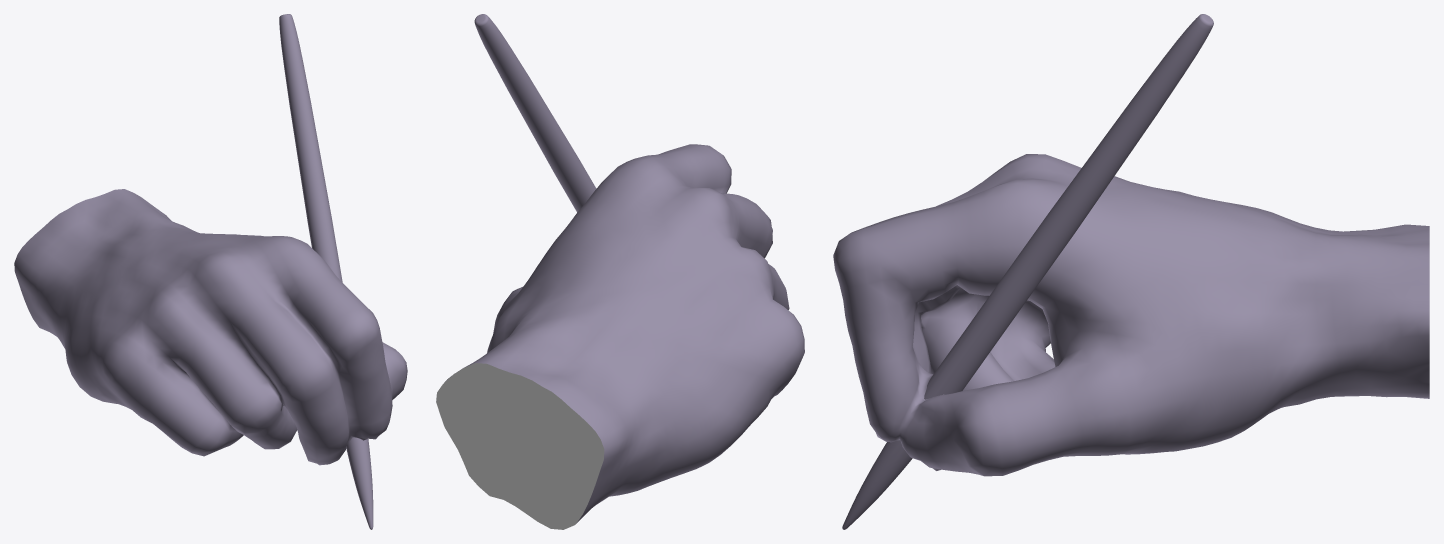
The model's file is 手_20260324183255_opt.glb.
3 views of the same model, side by side, from view 1: azimuth 30°, elevation 25°; view 2: azimuth 150°, elevation 25°; view 3: azimuth 270°, elevation 25° (orthographic). The views are drawn at different scales.
Parts seen in each view (by area): view 1: HandLowUv, Cylinder001; view 2: HandLowUv, HandLowUv001, Cylinder001; view 3: HandLowUv, Cylinder001.
Part boxes in pixels (x1=…): HandLowUv: x1=14, y1=189, x2=407, y2=465; Cylinder001: x1=279, y1=14, x2=373, y2=529; HandLowUv: x1=444, y1=144, x2=804, y2=523; HandLowUv001: x1=436, y1=363, x2=604, y2=529; Cylinder001: x1=474, y1=14, x2=596, y2=212; HandLowUv: x1=833, y1=154, x2=1429, y2=476; Cylinder001: x1=842, y1=14, x2=1213, y2=529.
Bounding box in the file's own units: 0.2044 × 0.2989 × 0.2958.
